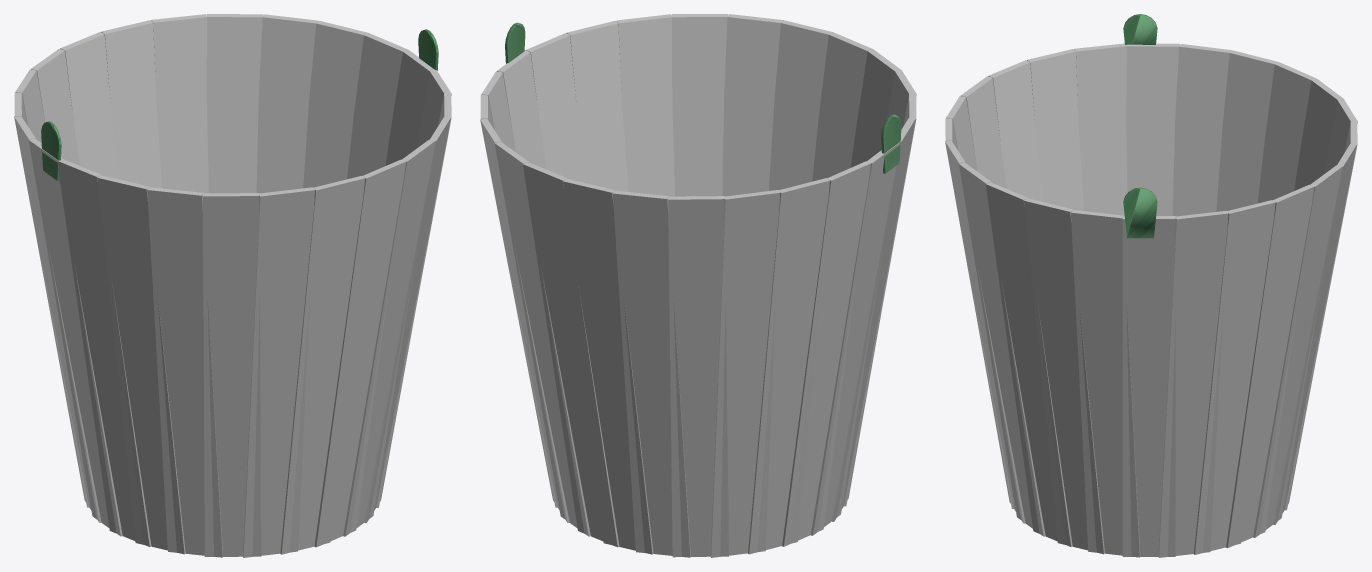
The model's file is original-1.obj.
3 views of the same model, side by side, from view 1: azimuth 30°, elevation 25°; view 2: azimuth 150°, elevation 25°; view 3: azimuth 270°, elevation 25° (orthographic). The views are drawn at different scales.
Visible parts, largest first — view 1: Cube.016_Cube.017, Cube.017_Cube.018, Cube.015_Cube.016, Cube.018_Cube.019, Cube.014_Cube.015, Cube.019_Cube.020, Cube.013_Cube.014, Cube.004_Cube.005, Cube.003_Cube.004, Cube.005_Cube.006, Cube.020_Cube.021, Cube.012_Cube.013 (+14 smaller); view 2: Cube.008_Cube.009, Cube.009_Cube.010, Cube.007_Cube.008, Cube.010_Cube.011, Cube.006_Cube.007, Cube.011_Cube.012, Cube.005_Cube.006, Cube.020_Cube.021, Cube.019_Cube.020, Cube.021_Cube.022, Cube.012_Cube.013, Cube.004_Cube.005 (+14 smaller); view 3: Cube.001_Cube.002, Cube.023_Cube.024, Cube_Cube.001, Cube.002_Cube.003, Cube.022_Cube.023, Cube.003_Cube.004, Cube.021_Cube.022, Cube.011_Cube.012, Cube.013_Cube.014, Cube.004_Cube.005, Cube.012_Cube.013, Cube.020_Cube.021 (+14 smaller).
Boxes of the visible parts, <box> form: Cube.016_Cube.017: <box>203,193,261,556</box>; Cube.017_Cube.018: <box>243,187,314,557</box>; Cube.015_Cube.016: <box>147,187,223,557</box>; Cube.018_Cube.019: <box>280,176,364,554</box>; Cube.014_Cube.015: <box>97,175,185,554</box>; Cube.019_Cube.020: <box>314,159,405,547</box>; Cube.013_Cube.014: <box>57,159,151,546</box>; Cube.004_Cube.005: <box>206,14,263,193</box>; Cube.003_Cube.004: <box>256,14,318,193</box>; Cube.005_Cube.006: <box>151,14,208,193</box>; Cube.020_Cube.021: <box>343,139,435,536</box>; Cube.012_Cube.013: <box>28,138,122,536</box>; Cube.008_Cube.009: <box>668,196,728,557</box>; Cube.009_Cube.010: <box>710,190,779,557</box>; Cube.007_Cube.008: <box>612,190,690,557</box>; Cube.010_Cube.011: <box>748,178,829,554</box>; Cube.006_Cube.007: <box>563,179,653,554</box>; Cube.011_Cube.012: <box>782,161,870,546</box>; Cube.005_Cube.006: <box>523,162,619,547</box>; Cube.020_Cube.021: <box>672,14,728,196</box>; Cube.019_Cube.020: <box>722,14,783,196</box>; Cube.021_Cube.022: <box>616,14,674,196</box>; Cube.012_Cube.013: <box>810,142,900,535</box>; Cube.004_Cube.005: <box>494,142,590,536</box>; Cube.001_Cube.002: <box>1158,210,1228,557</box>; Cube.023_Cube.024: <box>1071,210,1140,557</box>; Cube_Cube.001: <box>1122,216,1175,556</box>; Cube.002_Cube.003: <box>1193,200,1275,554</box>; Cube.022_Cube.023: <box>1024,198,1104,554</box>; Cube.003_Cube.004: <box>1226,184,1314,548</box>; Cube.021_Cube.022: <box>985,182,1072,546</box>; Cube.011_Cube.012: <box>1172,44,1232,216</box>; Cube.013_Cube.014: <box>1074,43,1127,215</box>; Cube.004_Cube.005: <box>1253,165,1341,537</box>; Cube.012_Cube.013: <box>1126,43,1179,215</box>; Cube.020_Cube.021: <box>959,162,1045,536</box>.
Size of the model in its own units: 0.9583 by 1.02 by 0.955.
